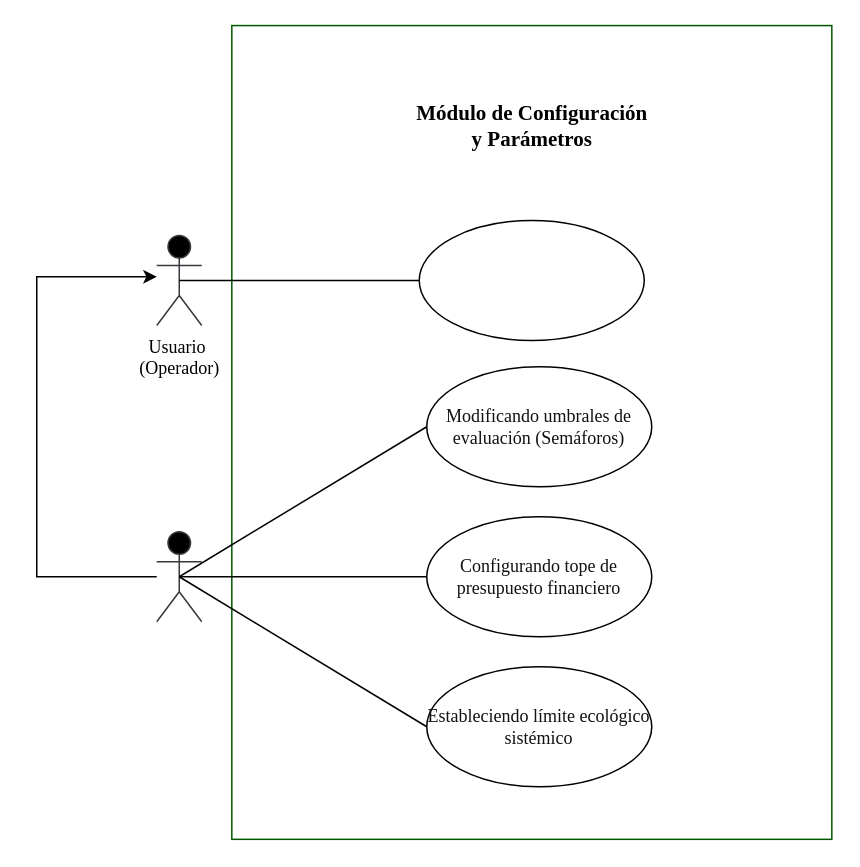
Some shapes in this 860 by 867 pixel diagram are drawn without their labels. Here are the shapes that lost their labels. From the top down, the centre of each, then its label:
At pixel 531 279: "Seleccionando región geográfica (Cloud)".
At pixel 178 576: "Usuario administrador".
